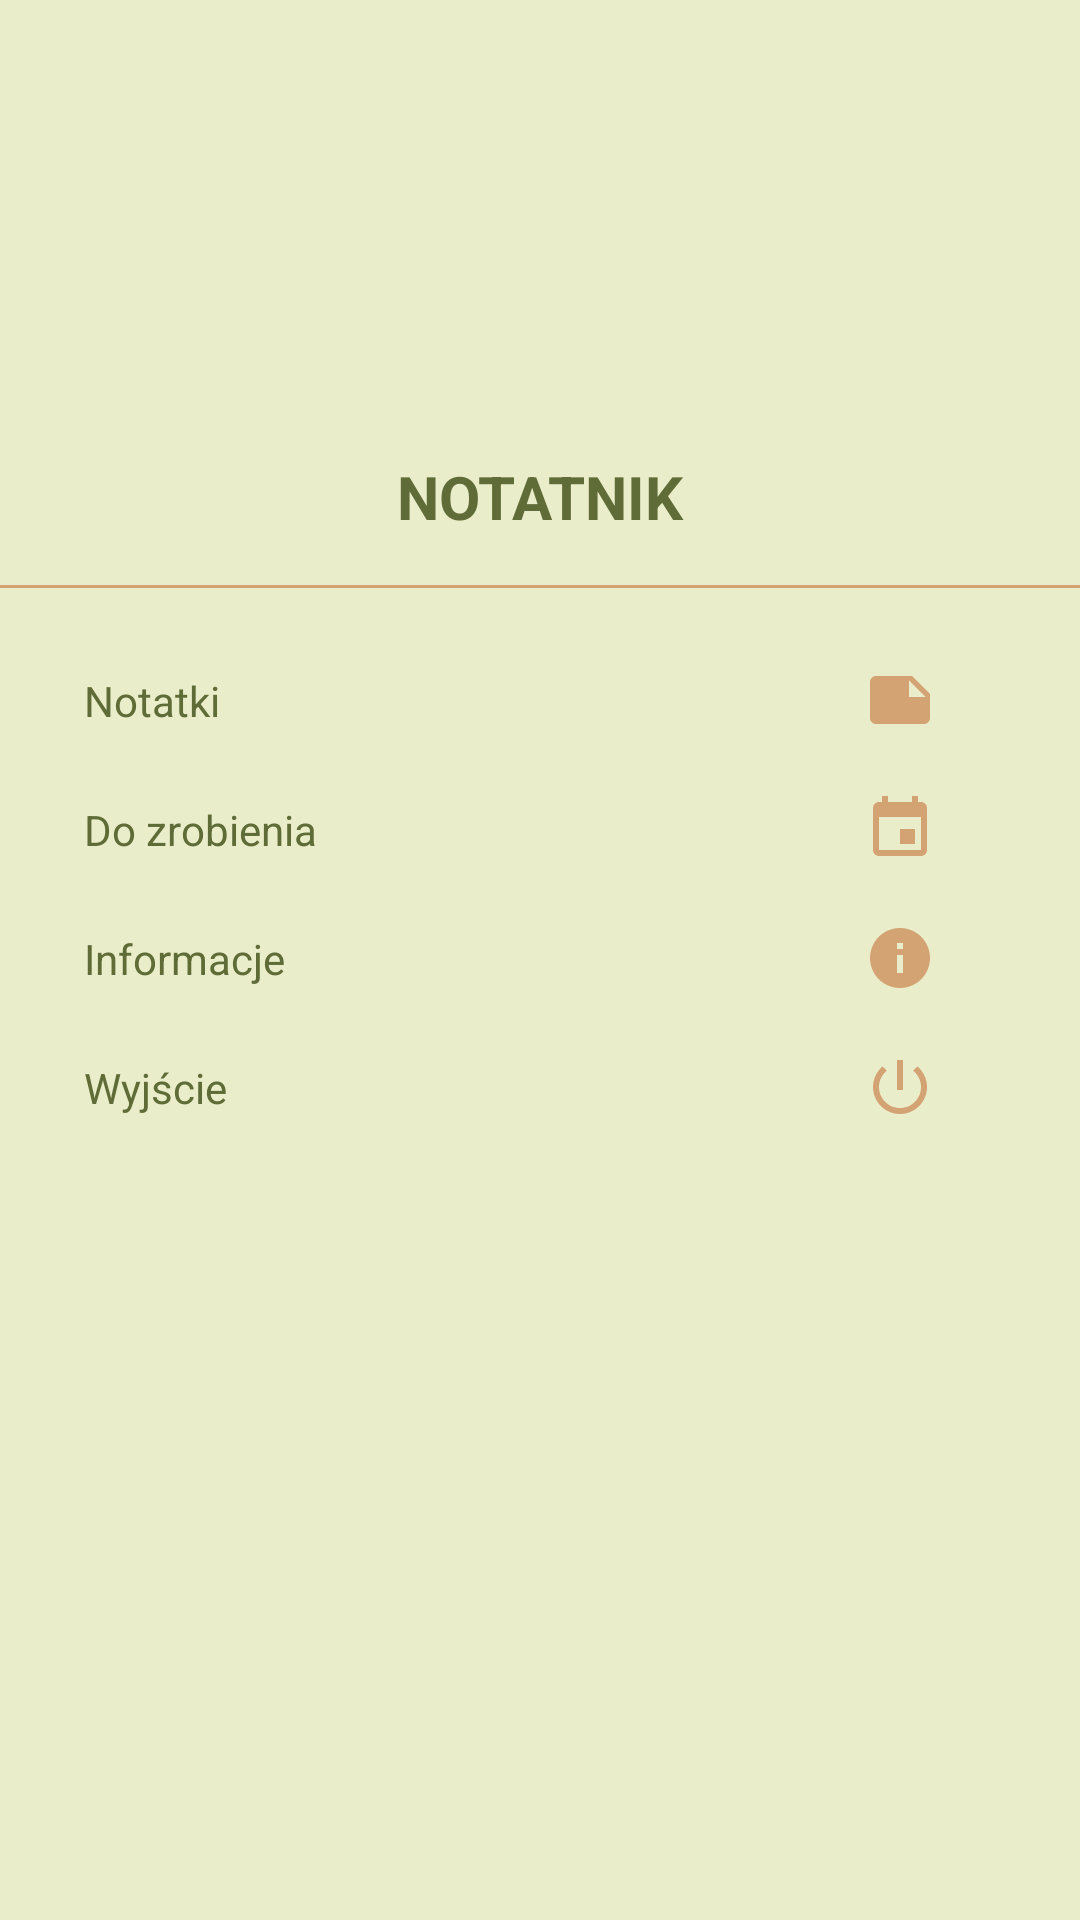

Where to tap for icons on this 1080x1920 app screen, as (x=x, y=y):
event: (x=900, y=826)
nfo: (x=900, y=958)
note: (x=900, y=700)
